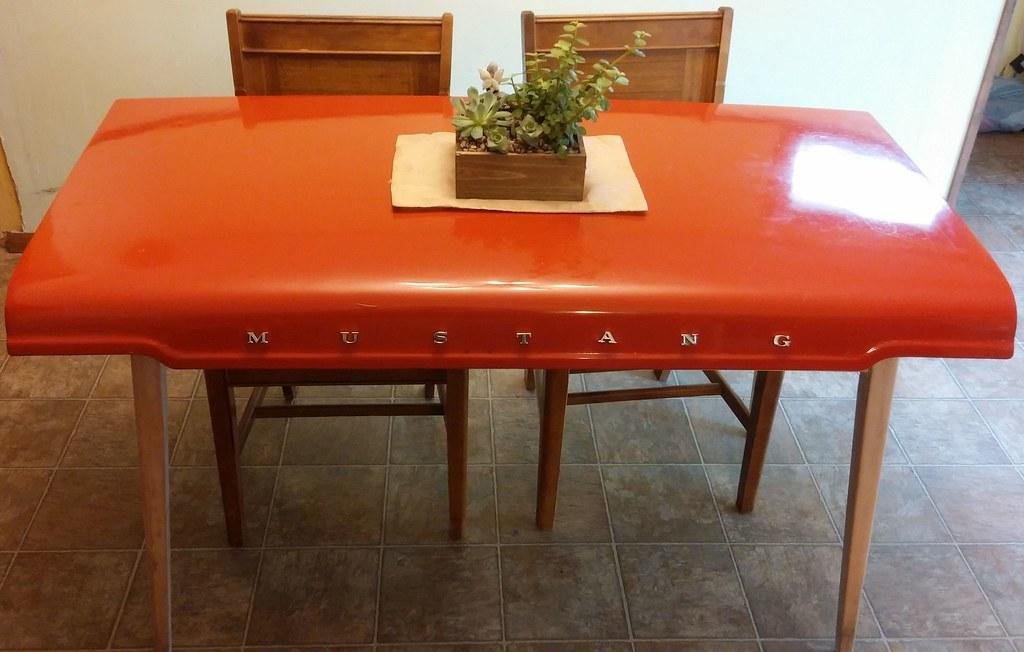table: (5, 93, 1018, 651)
